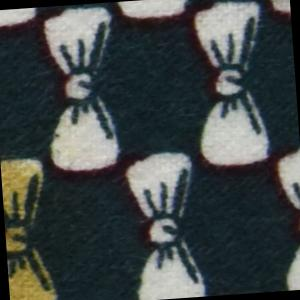Stain: (1, 150, 56, 300)
